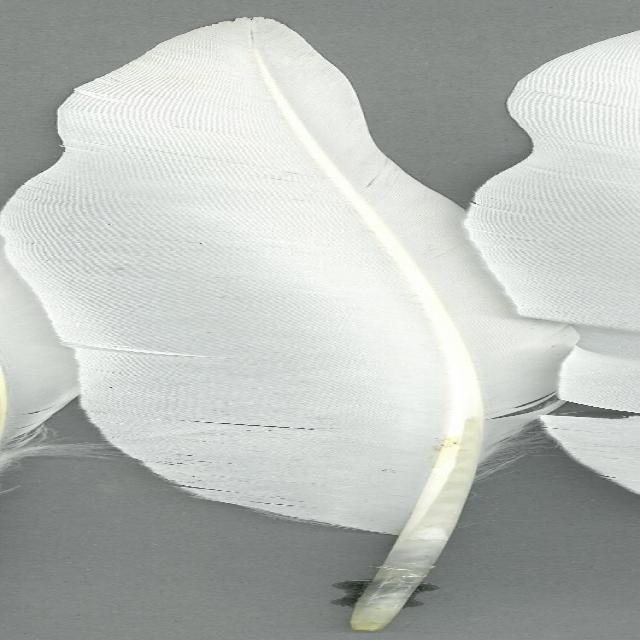feather: (24, 16, 542, 631)
